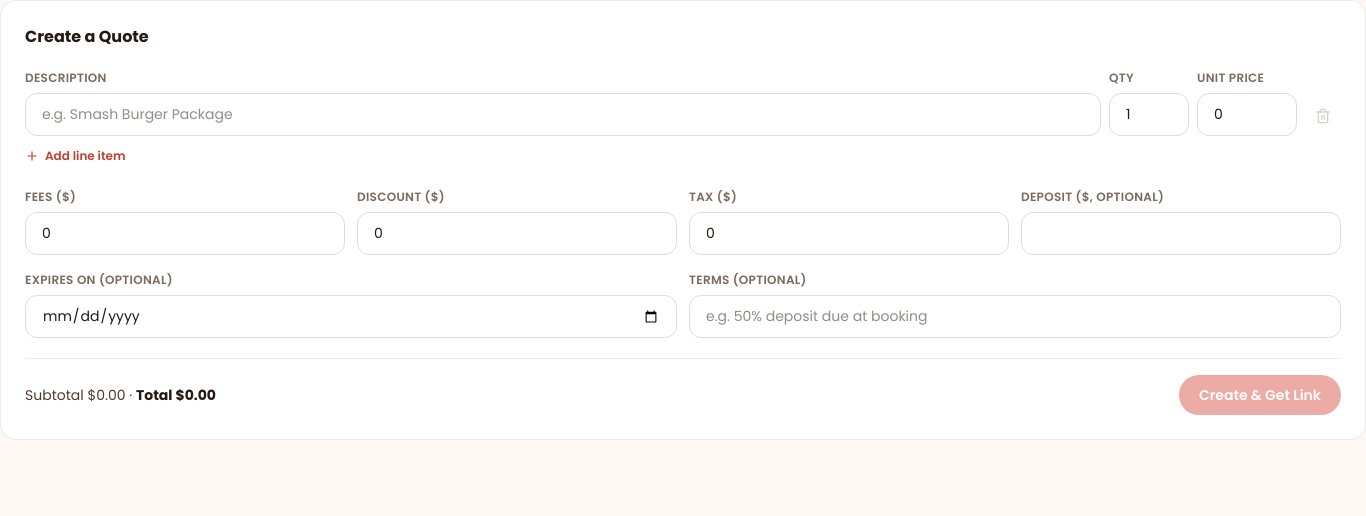
Test: QuoteBuilder › disables removing the only line item, and re-enables once a second exists
This screenshot has width=1366, height=516.
Expected: the button named "remove line item" is disabled, [1305, 98, 1341, 134]
Click the button "Add line item" at (75, 156), box [25, 148, 126, 164]
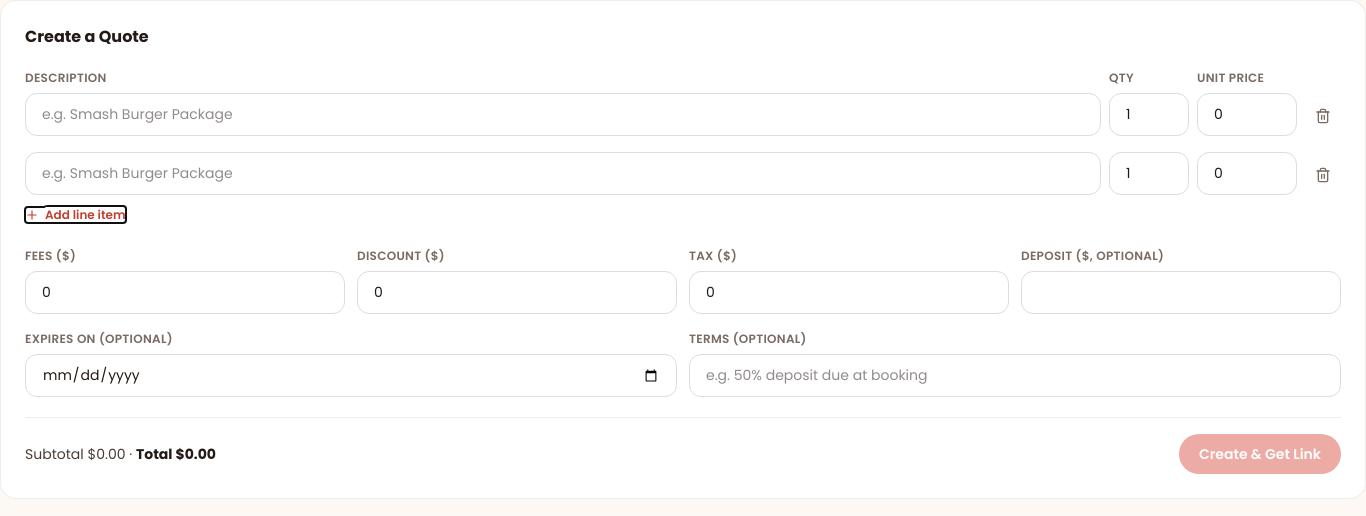
Now the number of buttons named "remove line item" is 2
Now the button named "remove line item" below "Qty" is enabled
Click the button named "remove line item" below "Qty" at (1323, 116), box [1305, 98, 1341, 134]
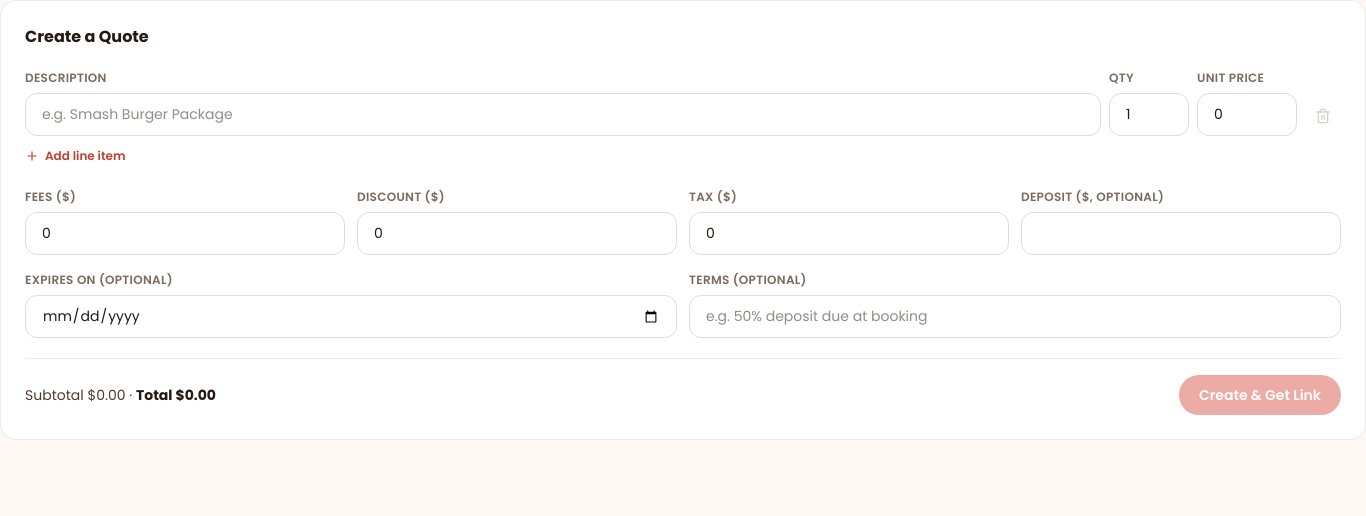
Now the number of buttons named "remove line item" is 1, box [1305, 98, 1341, 134]
Now the button named "remove line item" is disabled, box [1305, 98, 1341, 134]
